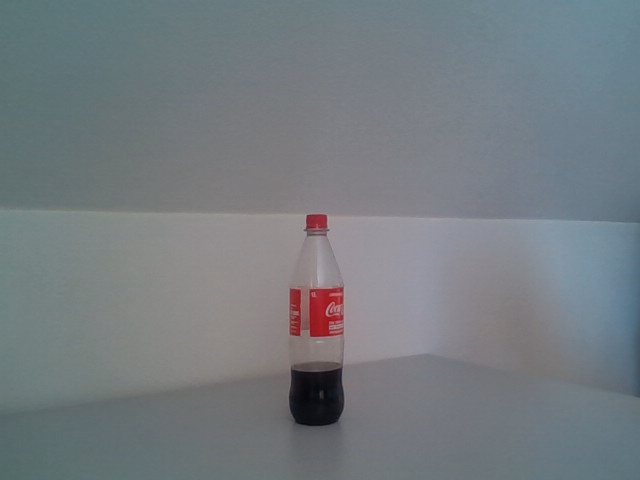bottle: (288, 213, 346, 427)
